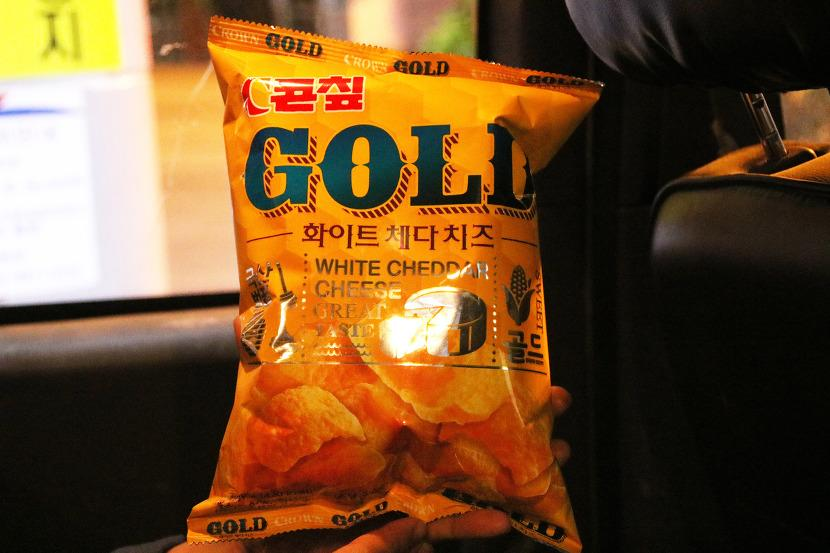snack: (188, 13, 607, 553)
